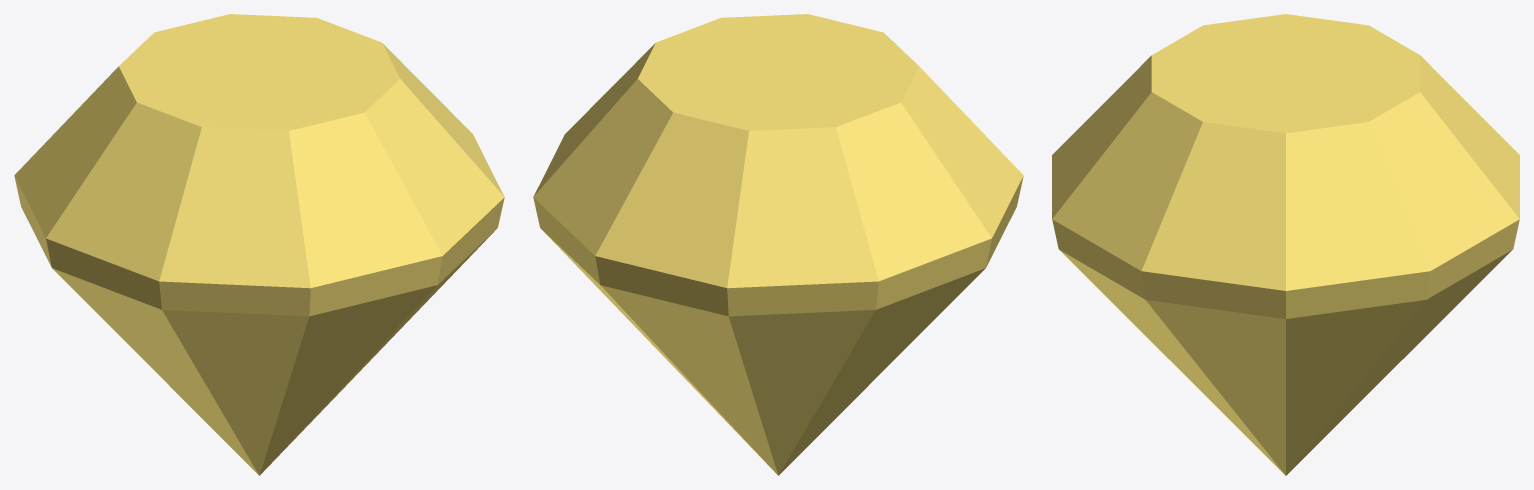
The model's file is Treasure.glb.
3 views of the same model, side by side, from view 1: azimuth 30°, elevation 25°; view 2: azimuth 150°, elevation 25°; view 3: azimuth 270°, elevation 25° (orthographic).
Visible parts, largest first — view 1: Gold; view 2: Gold; view 3: Gold.
Boxes of the visible parts, x1,y1,x2,y2 form: Gold: (14, 14, 504, 475); Gold: (533, 14, 1023, 475); Gold: (1052, 14, 1519, 475).
Bounding box in the file's own units: 2.16 × 1.95 × 2.05.
